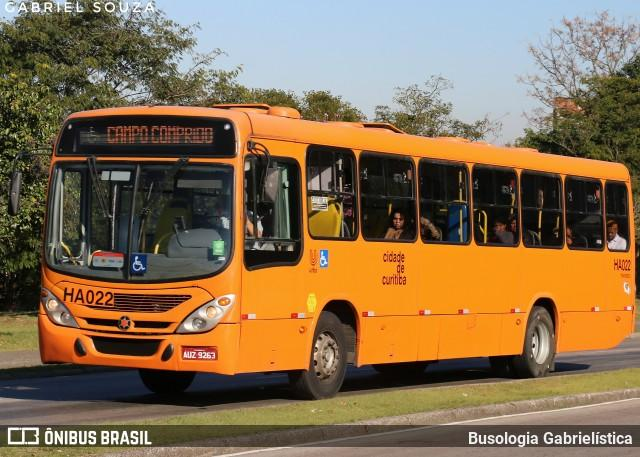CAMPO COMPRIDO: (103, 122, 216, 148)
